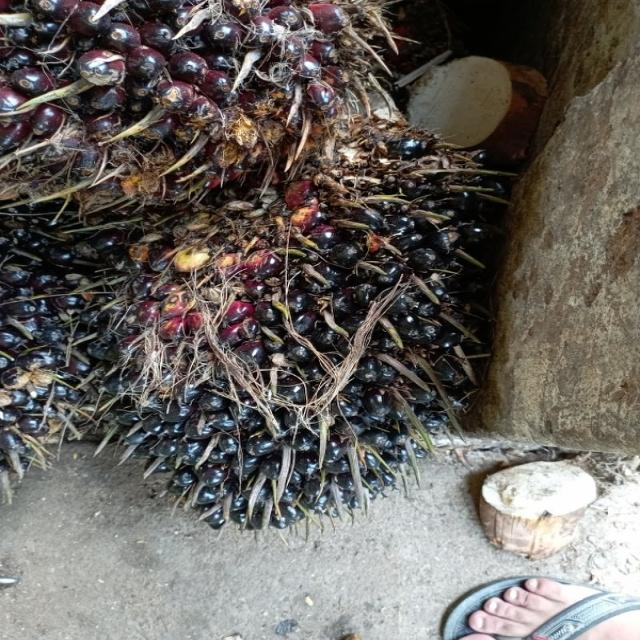fraksi 00: (90, 114, 483, 522)
